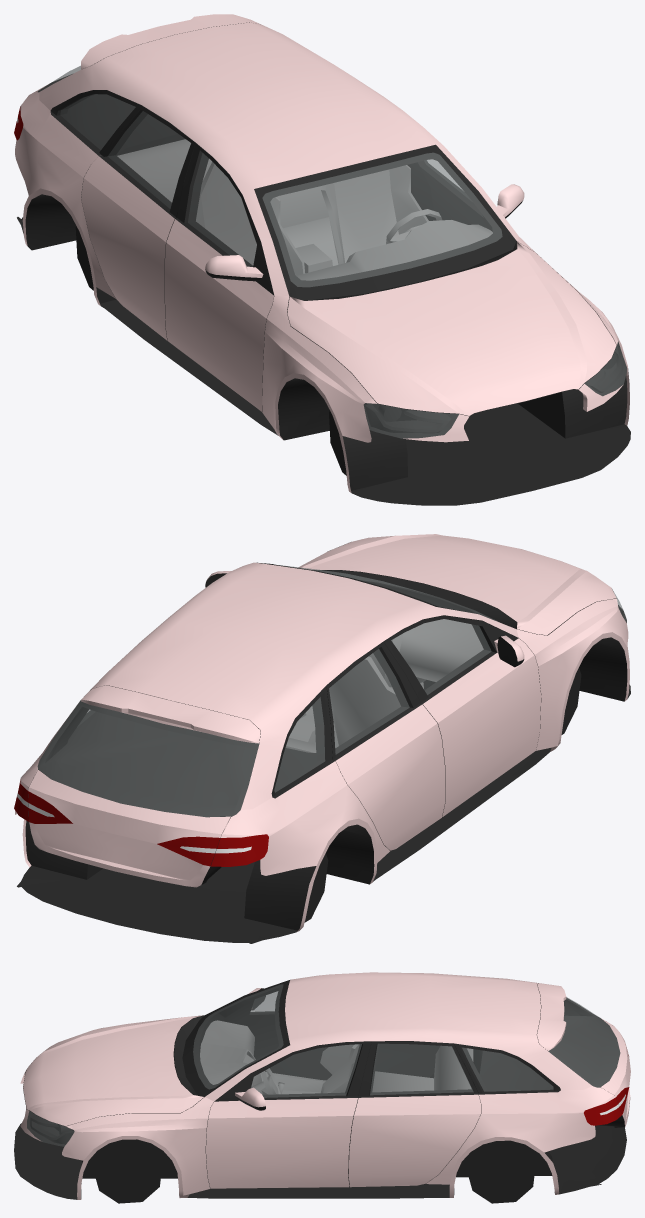
Rendered from Classic_14.FBX.
The picture shows the model from 3 angles, top to bottom: view 1: azimuth 30°, elevation 25°; view 2: azimuth 150°, elevation 25°; view 3: azimuth 270°, elevation 25°; orthographic projection. The views are drawn at different scales.
Parts seen in each view (by area): view 1: Classic_14_Body, Classic_14_Roof, Classic_14_Hood, Classic_14_Window_F, Classic_14_Classical_Interior, Classic_14_Door_RF, Classic_14_Door_RB, Classic_14_Window_RM, Classic_14_Window_RF, Classic_14_Door_LF, Classic_14_Trunk, Classic_14_Window_RB (+2 smaller); view 2: Classic_14_Body, Classic_14_Roof, Classic_14_Trunk, Classic_14_Window_B, Classic_14_Door_RF, Classic_14_Hood, Classic_14_Door_RB, Classic_14_Classical_Interior, Classic_14_Window_RM, Classic_14_Window_RF, Classic_14_Window_RB, Classic_14_Tailights (+1 smaller); view 3: Classic_14_Body, Classic_14_Roof, Classic_14_Door_LF, Classic_14_Hood, Classic_14_Door_LB, Classic_14_Classical_Interior, Classic_14_Window_F, Classic_14_Trunk, Classic_14_Window_LM, Classic_14_Window_LF, Classic_14_Window_B, Classic_14_Door_RF (+5 smaller).
Part boxes in pixels (bbox=[...]): Classic_14_Body: bbox=[15, 91, 630, 505]; Classic_14_Roof: bbox=[39, 22, 518, 296]; Classic_14_Hood: bbox=[287, 241, 616, 415]; Classic_14_Window_F: bbox=[262, 153, 502, 286]; Classic_14_Classical_Interior: bbox=[117, 139, 492, 280]; Classic_14_Door_RF: bbox=[165, 143, 274, 411]; Classic_14_Door_RB: bbox=[81, 106, 195, 340]; Classic_14_Window_RM: bbox=[108, 111, 190, 208]; Classic_14_Window_RF: bbox=[188, 153, 256, 266]; Classic_14_Door_LF: bbox=[418, 160, 524, 231]; Classic_14_Trunk: bbox=[30, 14, 260, 94]; Classic_14_Window_RB: bbox=[60, 94, 135, 149]; Classic_14_Body: bbox=[15, 544, 630, 943]; Classic_14_Roof: bbox=[39, 562, 518, 809]; Classic_14_Trunk: bbox=[28, 685, 260, 887]; Classic_14_Window_B: bbox=[38, 700, 258, 816]; Classic_14_Door_RF: bbox=[384, 615, 541, 817]; Classic_14_Hood: bbox=[298, 534, 616, 635]; Classic_14_Door_RB: bbox=[326, 642, 445, 850]; Classic_14_Classical_Interior: bbox=[285, 619, 483, 752]; Classic_14_Window_RM: bbox=[329, 649, 409, 754]; Classic_14_Window_RF: bbox=[391, 619, 491, 694]; Classic_14_Window_RB: bbox=[274, 697, 324, 792]; Classic_14_Tailights: bbox=[14, 779, 268, 866]; Classic_14_Body: bbox=[14, 1012, 626, 1203]; Classic_14_Roof: bbox=[205, 972, 591, 1101]; Classic_14_Door_LF: bbox=[206, 1041, 371, 1188]; Classic_14_Hood: bbox=[23, 1015, 203, 1126]; Classic_14_Door_LB: bbox=[348, 1041, 480, 1187]; Classic_14_Classical_Interior: bbox=[200, 1020, 473, 1094]; Classic_14_Window_F: bbox=[193, 984, 283, 1089]; Classic_14_Trunk: bbox=[537, 983, 630, 1127]; Classic_14_Window_LM: bbox=[370, 1044, 473, 1094]; Classic_14_Window_LF: bbox=[251, 1044, 361, 1097]; Classic_14_Window_B: bbox=[548, 997, 619, 1087]; Classic_14_Door_RF: bbox=[224, 988, 331, 1080].
Bounding box in the file's own units: 226 × 155 × 518.
